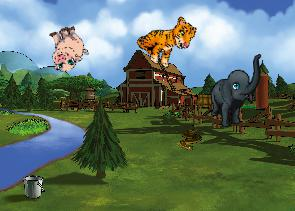elephant: (206, 54, 267, 128)
pig: (41, 22, 91, 74)
tiger: (132, 4, 200, 74)
